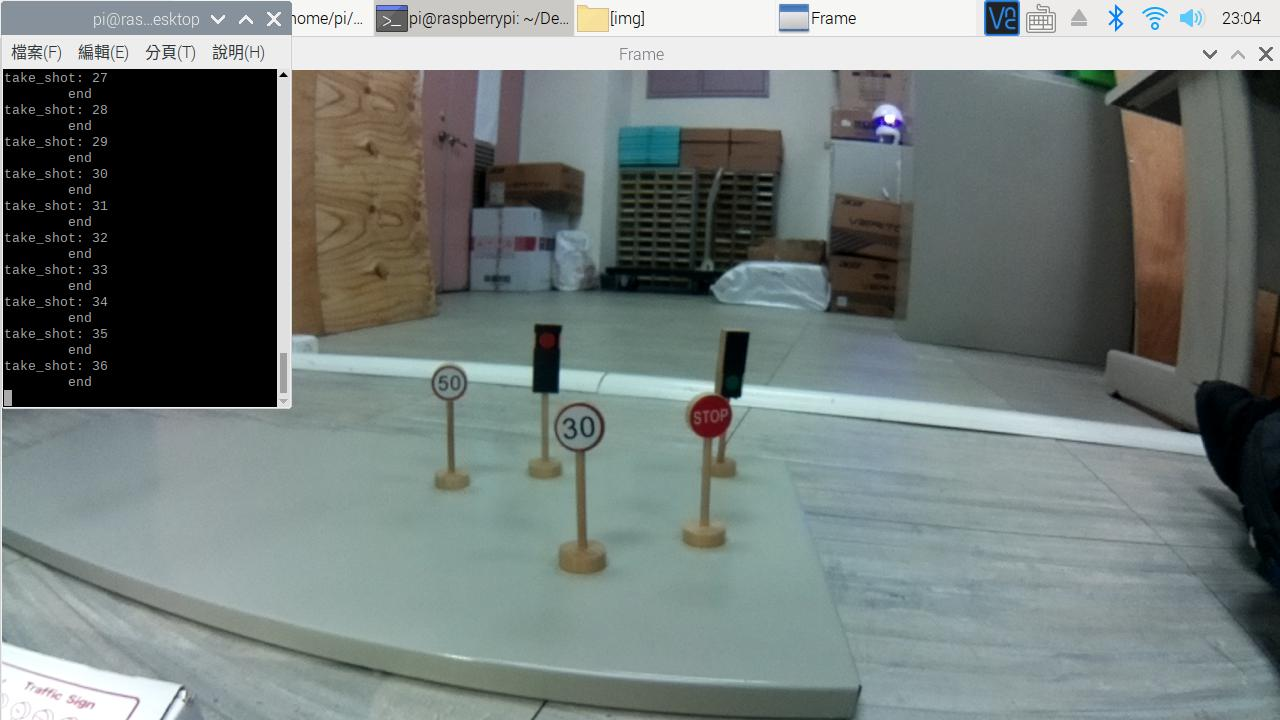Green: (720, 335, 745, 400)
Red: (535, 325, 561, 391)
Speed30: (553, 409, 603, 456)
Speed50: (435, 366, 464, 401)
Stop: (689, 399, 729, 436)
